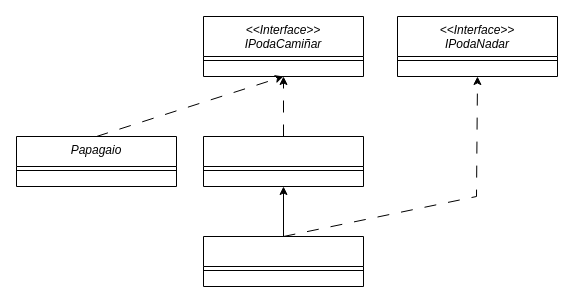
Some shapes in this 574 by 303 pixel diagram are drawn without their labels. The shapes that lost their labels are listed below. From the top down, each one's box as (x1, y1, x2, y2) in pixels, then its label:
(202, 136, 364, 186): Mamifero
(202, 236, 364, 286): Gato
